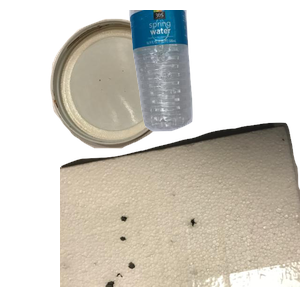glass: (90, 148, 300, 300)
metal: (47, 16, 214, 157)
plastic: (127, 10, 300, 134)
trash: (60, 120, 300, 300)
